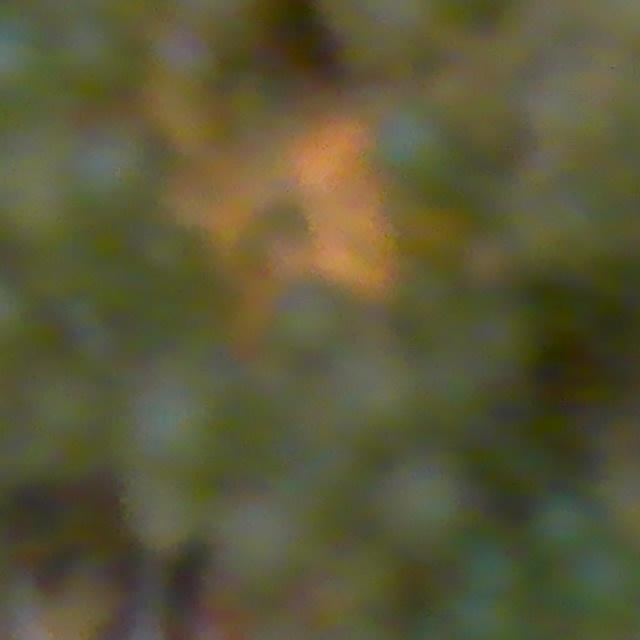SeaGrape: (329, 330, 429, 445), (218, 482, 325, 589), (66, 127, 166, 222), (372, 460, 471, 555), (126, 378, 211, 478), (372, 97, 460, 186), (55, 23, 148, 104), (122, 223, 215, 293), (126, 478, 207, 552), (267, 280, 338, 359), (528, 490, 603, 563)
